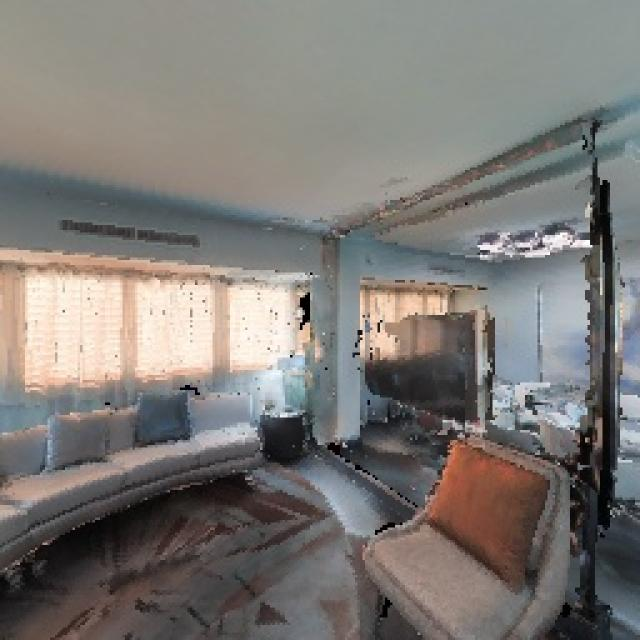sofa: (0, 372, 276, 607), (347, 395, 586, 640)
